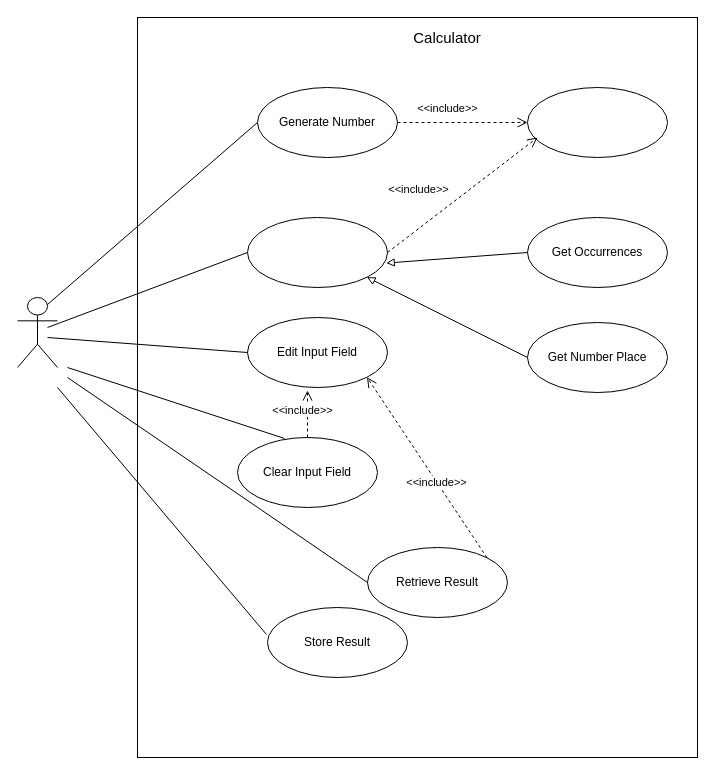
Image size: 715x775. Some labels were removed from this diagram. Here are the shapes that lost their labels. From the top down, the centre of each, then its label:
the point at 597,122: Display Results
the point at 317,252: Perform Calculation
the point at 37,332: User
